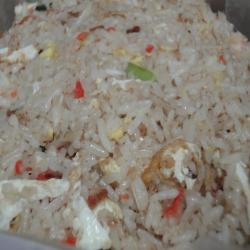rice: (20, 20, 216, 217)
